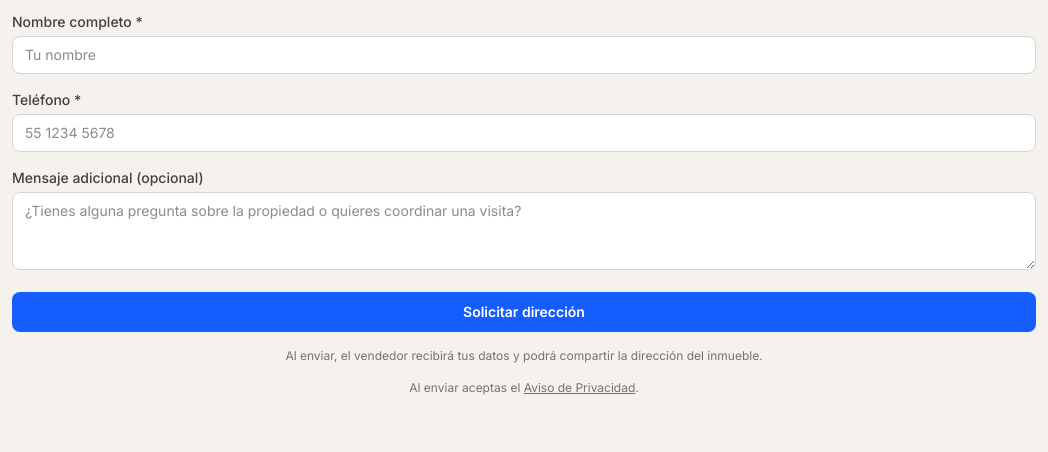
Test case: ContactRequestForm › validates inputs before submit
Click the button "Solicitar dirección": click(524, 312) [12,292,1036,332]
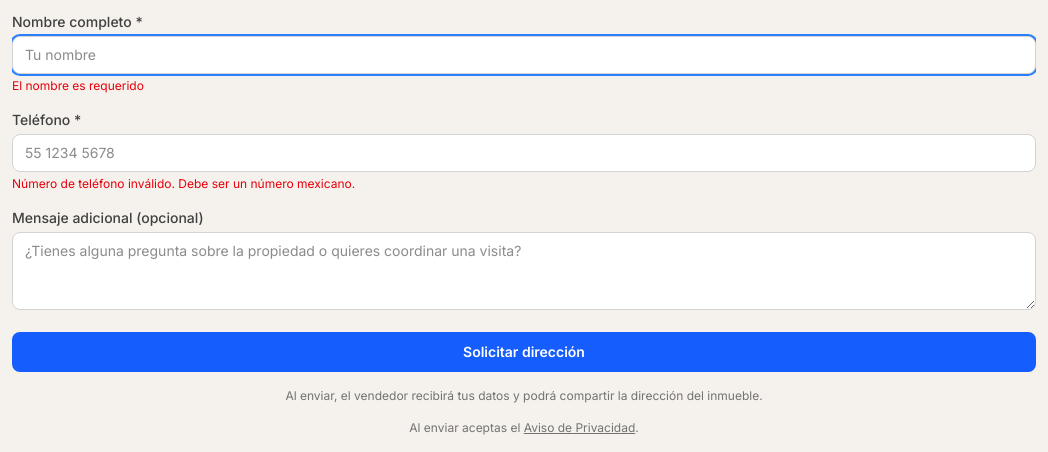
Check: the text "El nombre es requerido" is shown, box [12,78,144,93]
In the field labelled "Nombre completo *": (524, 55) [12,36,1036,74], type "Juan Perez"
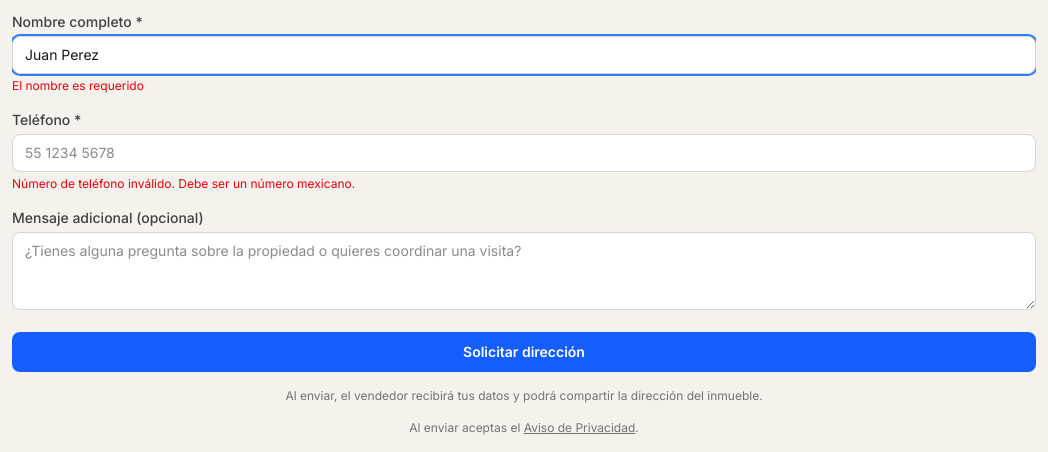
In the field labelled "Teléfono *": (524, 153) [12,134,1036,172], type "5512345678"
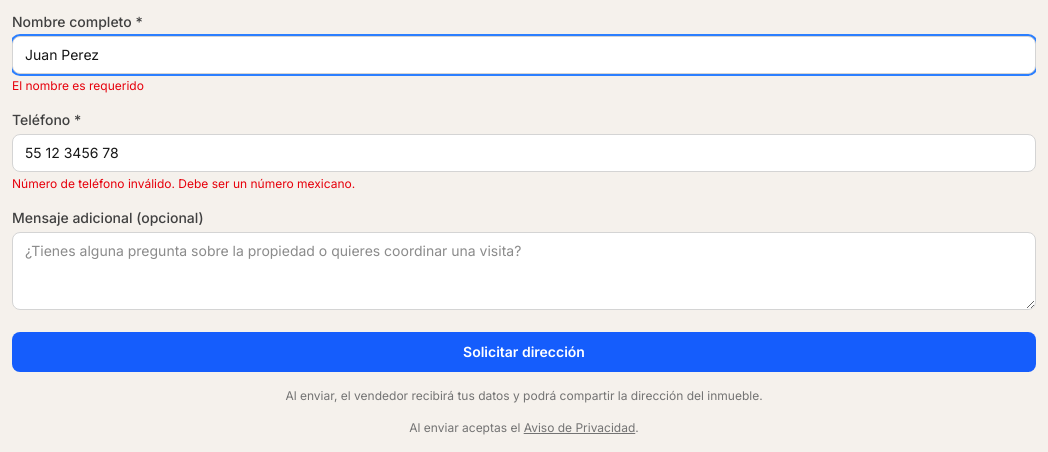
Click the button "Solicitar dirección": click(524, 352) [12,332,1036,372]
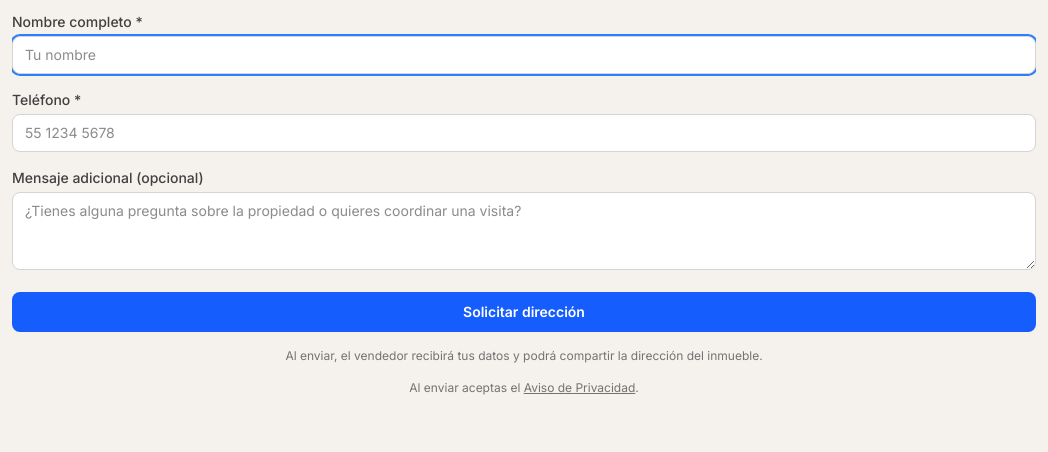
Check: the text "El nombre es requerido" is gone
